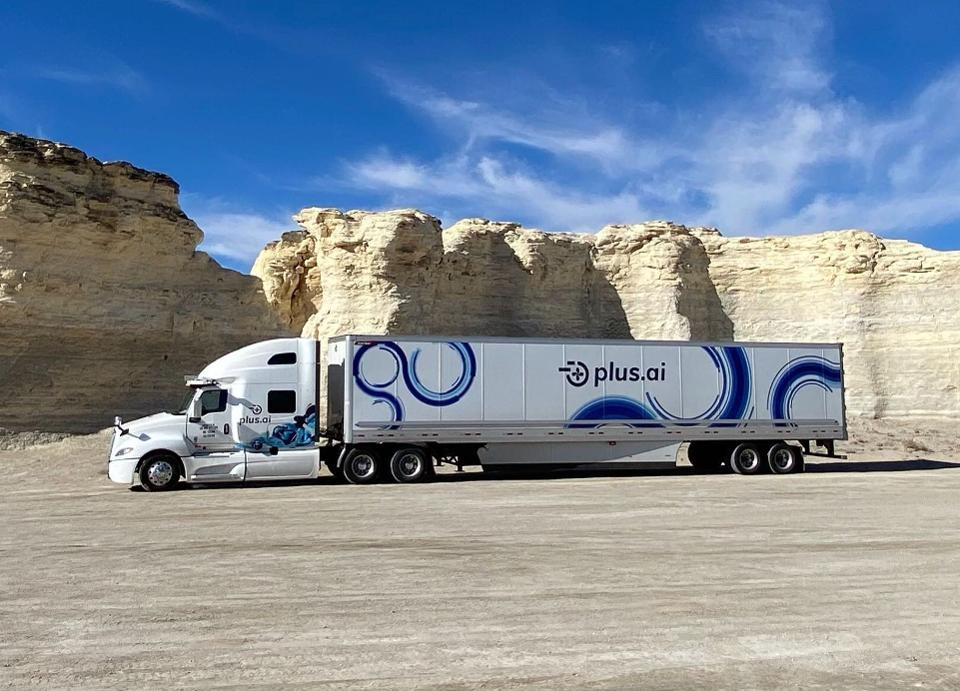truck: (101, 265, 879, 534)
